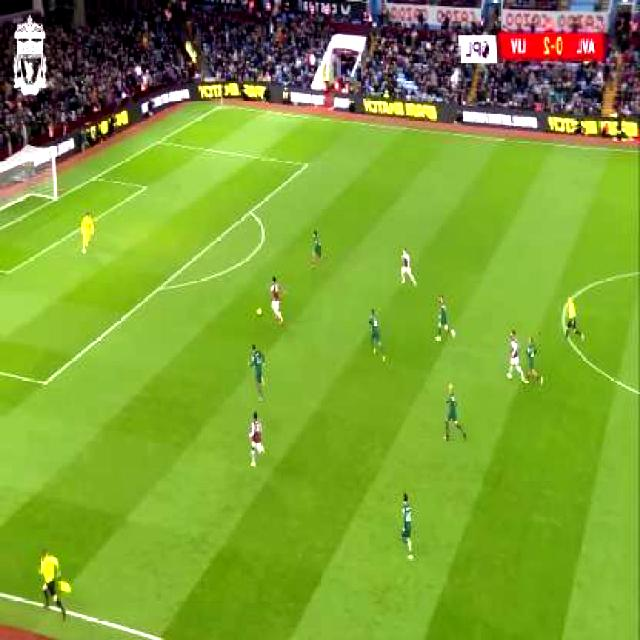bigarea_bottom_inner: (38, 371, 51, 394)
bigarea_top_inner: (300, 157, 314, 172)
bigarea_top_outter: (152, 136, 163, 150)
bottom_arc_area_intersection: (152, 275, 166, 300)
corner: (215, 103, 228, 112)
smallarea_bottom_inner: (2, 264, 15, 282)
smallarea_top_inner: (140, 177, 151, 198)
smallarea_top_outter: (88, 171, 100, 186)
top_arc_area_intersection: (244, 205, 256, 223)
